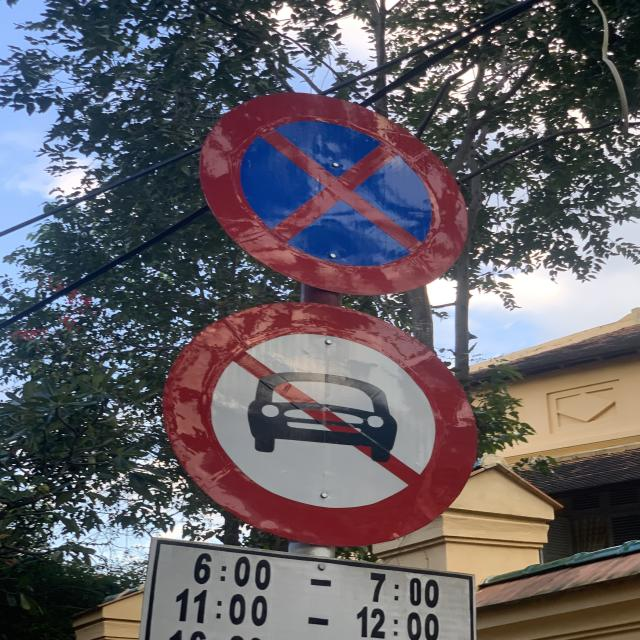Cam_Dung_Va_Dau_Xe: (197, 91, 473, 298)
Cam_O_To: (164, 302, 479, 545)
